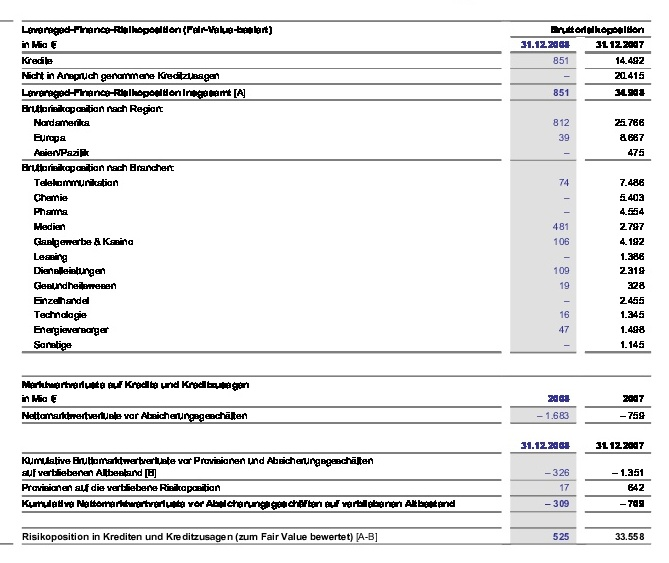table: (0, 0, 669, 563)
